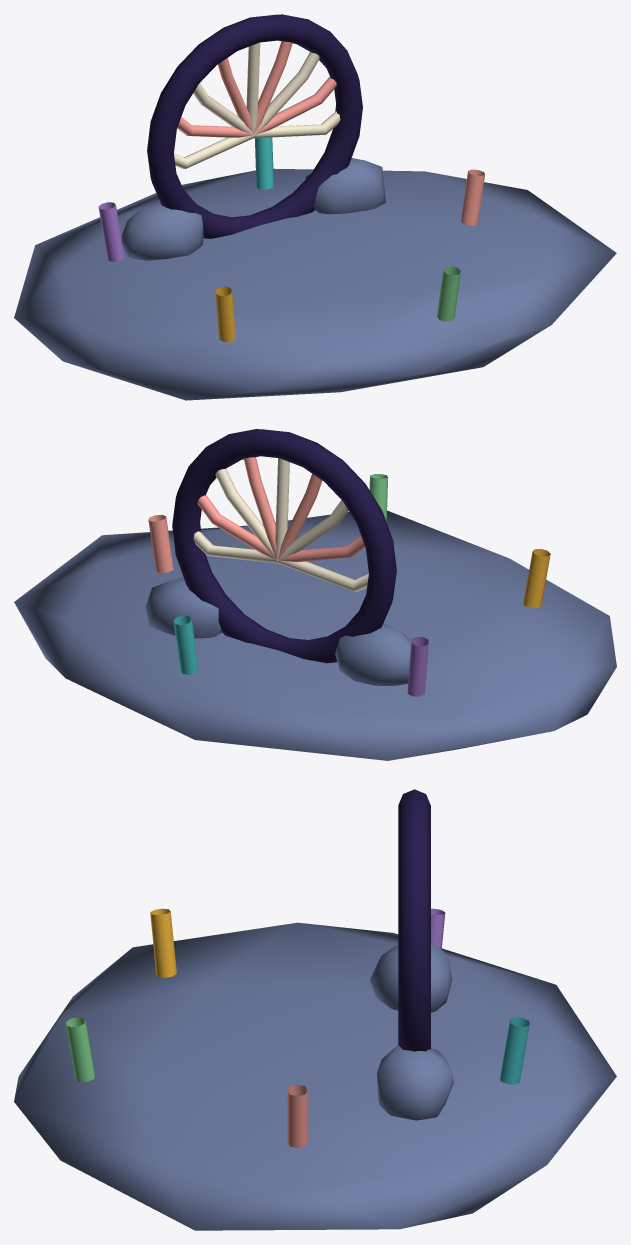
Rendered from r001_reef_hub_overall_reef_hub.glb.
3 views of the same model, one above another, from view 1: azimuth 30°, elevation 25°; view 2: azimuth 150°, elevation 25°; view 3: azimuth 270°, elevation 25° (orthographic). The views are drawn at different scales.
Visible parts, largest first — view 1: r001_reef_hub_overall_reef_hub.001; view 2: r001_reef_hub_overall_reef_hub.001; view 3: r001_reef_hub_overall_reef_hub.001.
Boxes of the visible parts, left/top/right/bottom form: r001_reef_hub_overall_reef_hub.001: left=14, top=14, right=616, bottom=400; r001_reef_hub_overall_reef_hub.001: left=14, top=429, right=616, bottom=760; r001_reef_hub_overall_reef_hub.001: left=14, top=789, right=616, bottom=1230.
Bounding box in the file's own units: 12.07 × 5.88 × 10.33.
